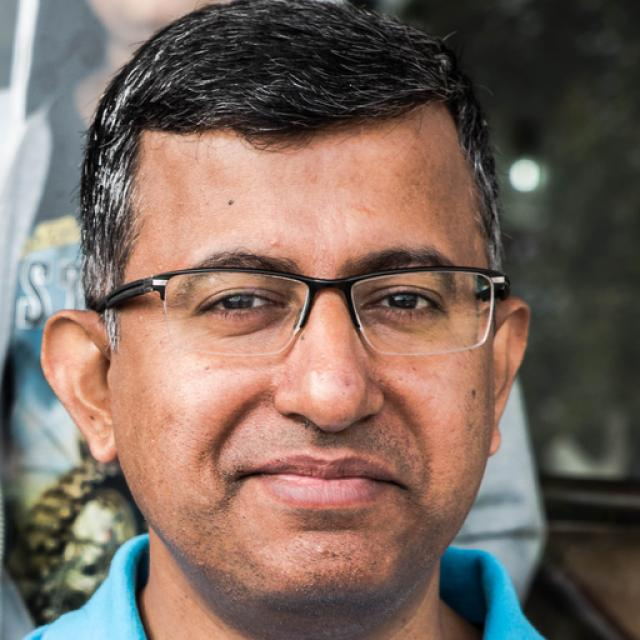Acne: (261, 233, 285, 251), (314, 545, 331, 559)
Pigmentation: (389, 141, 465, 226)
